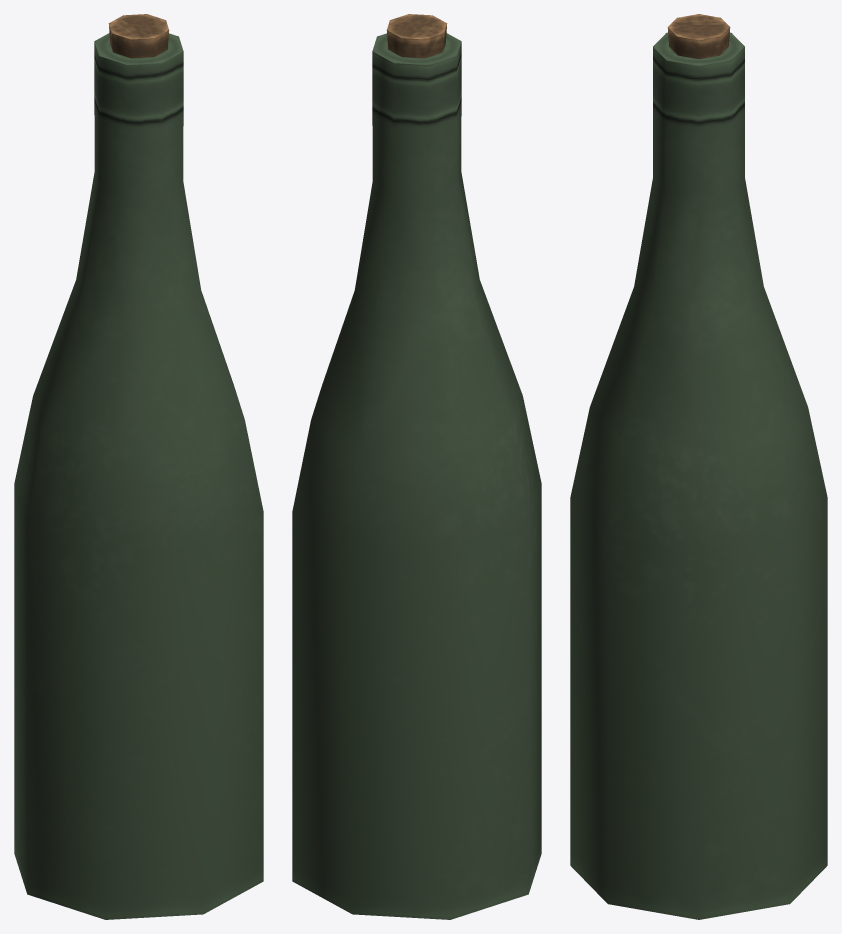
The model's file is LOD1_smallBottle_closed.fbx.
The picture shows the model from 3 angles, left to right: view 1: azimuth 30°, elevation 25°; view 2: azimuth 150°, elevation 25°; view 3: azimuth 270°, elevation 25°; orthographic projection.
Visible parts, largest first — view 1: LOD1_smallBottle_closed; view 2: LOD1_smallBottle_closed; view 3: LOD1_smallBottle_closed.
Boxes of the visible parts, box(x1,y1,x2,y2) form: LOD1_smallBottle_closed: box(14, 14, 263, 919); LOD1_smallBottle_closed: box(292, 14, 541, 919); LOD1_smallBottle_closed: box(570, 14, 827, 919).
Bounding box in the file's own units: 0.0929 × 0.3339 × 0.0929.
